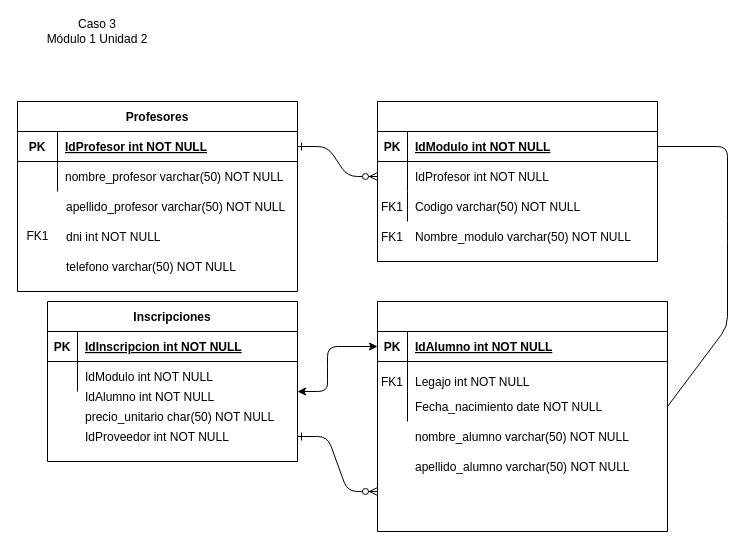
This 746x549 diagram has some shape labels left out. Each missing label, with the box of its shape:
Alumnos: (376, 300, 668, 532)
Modulos: (376, 100, 658, 262)
